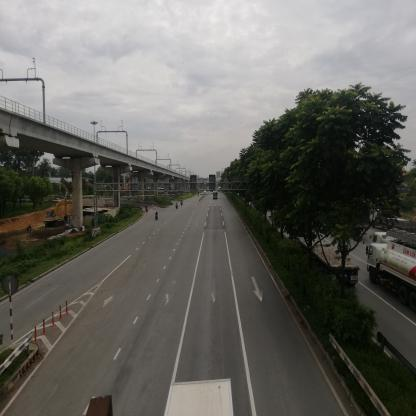motorbike: (156, 211, 160, 224)
truck: (366, 241, 416, 310)
